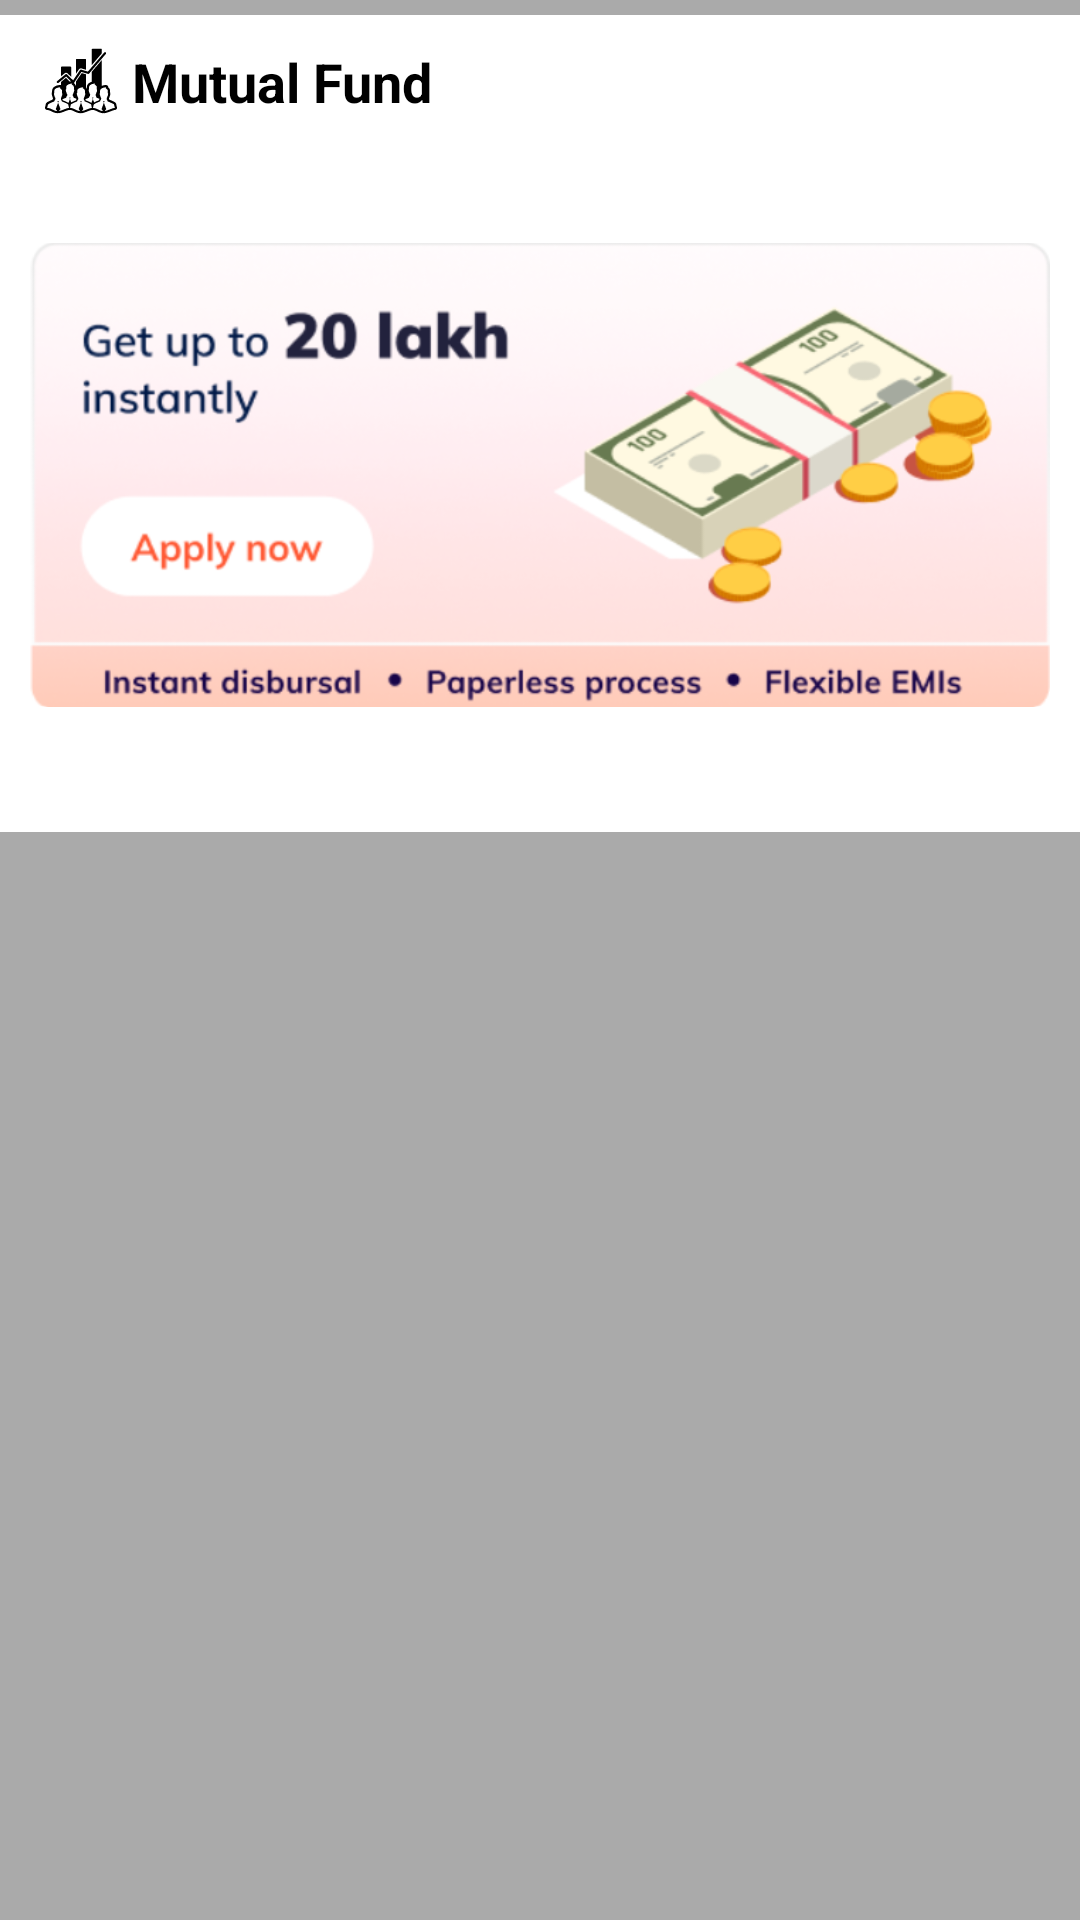

Point at icon controls on the screen. Image size 1080 × 1920, points as point (x, y).
stock: point (81, 81)
